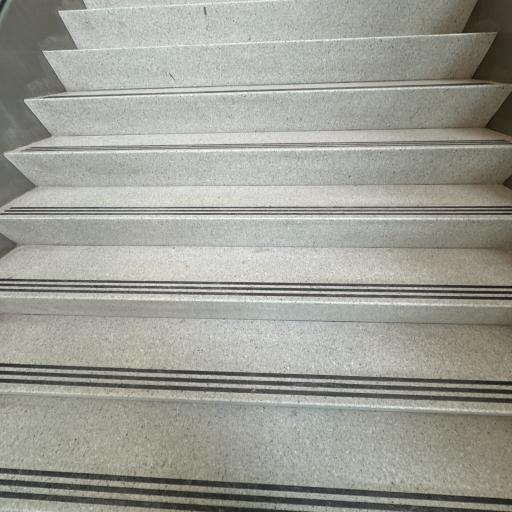Stairs: (0, 0, 512, 512), (25, 0, 512, 135), (0, 315, 512, 417), (0, 184, 512, 280), (45, 0, 495, 91), (0, 246, 512, 324), (61, 0, 476, 74), (5, 128, 512, 187)
